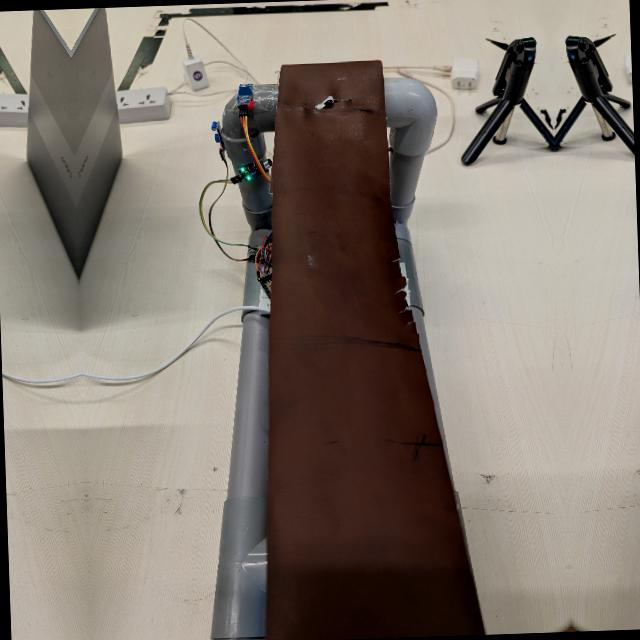joint_damage: (304, 80, 369, 138)
